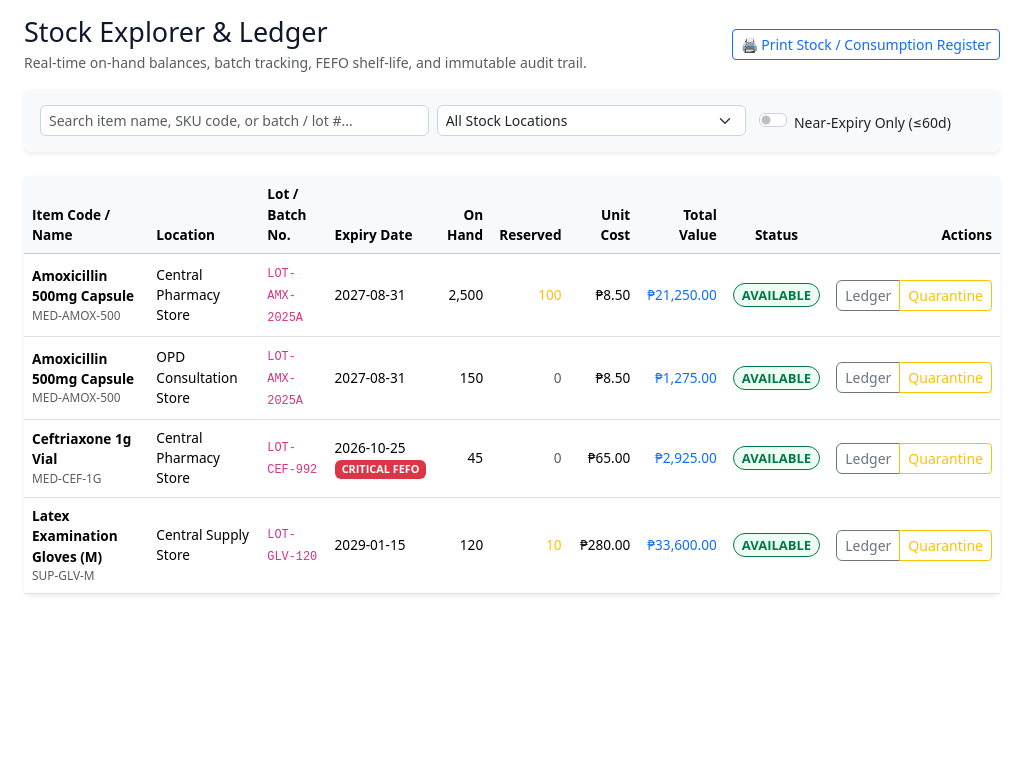
StockExplorerPage (todo §4.2, SUP-T8) › renders balances table and filters by search query
Expected: the heading "Stock Explorer & Ledger" is shown, [24,13,328,50]
Expected: the text "LOT-AMX-2025A" in the row of "2,500" is shown, [267,268,303,325]
Type "Gloves" into the field named "Search items" at (234, 121), box [40,105,429,136]
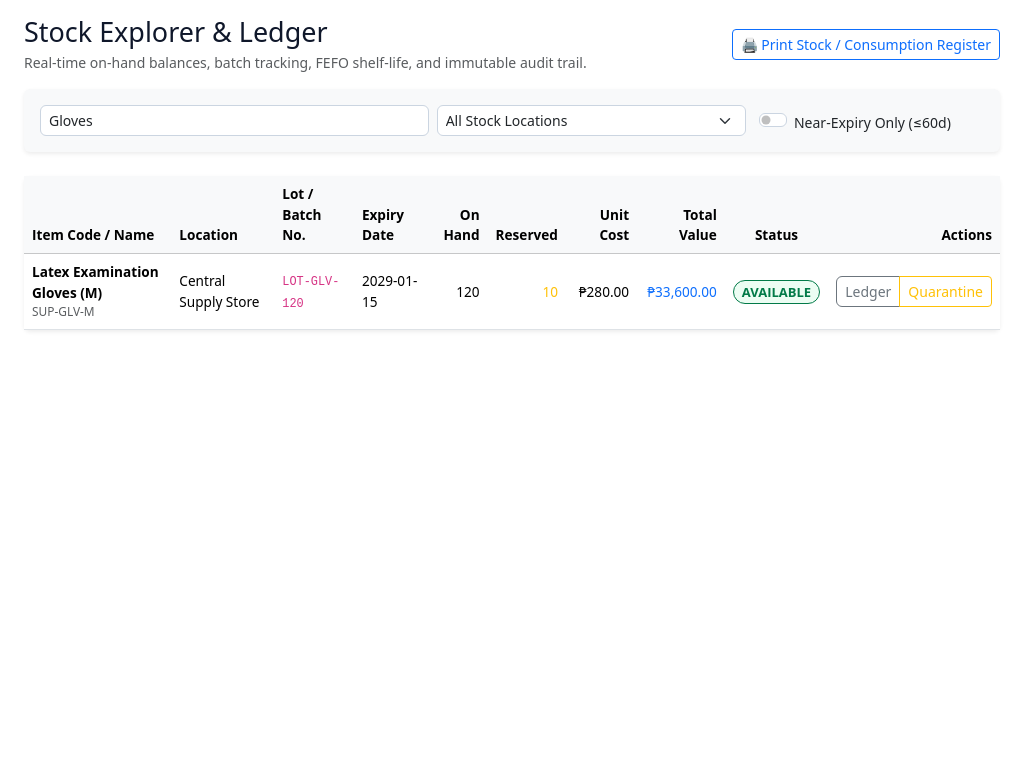
Expected: the text "Latex Examination Gloves (M)" is shown, [32,262,159,302]
Result: the text "Ceftriaxone 1g Vial" is gone
